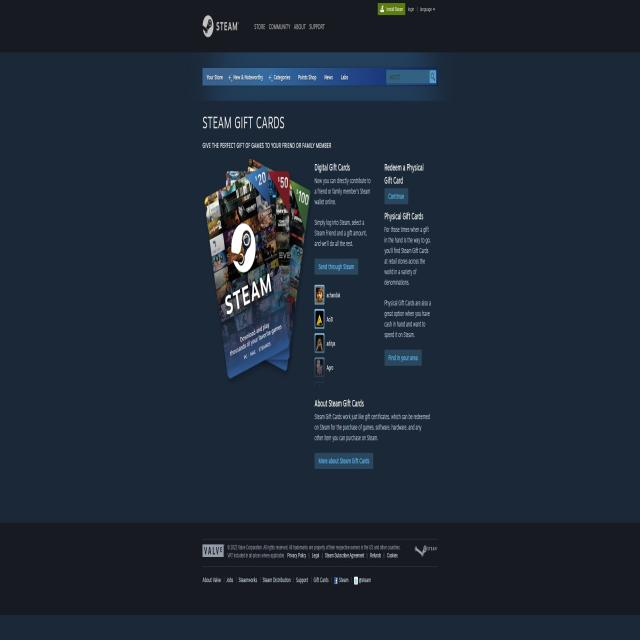menu-bar: (252, 20, 327, 36), (377, 2, 437, 15)
search: (388, 68, 437, 84)
tab-bar: (199, 63, 352, 85)
